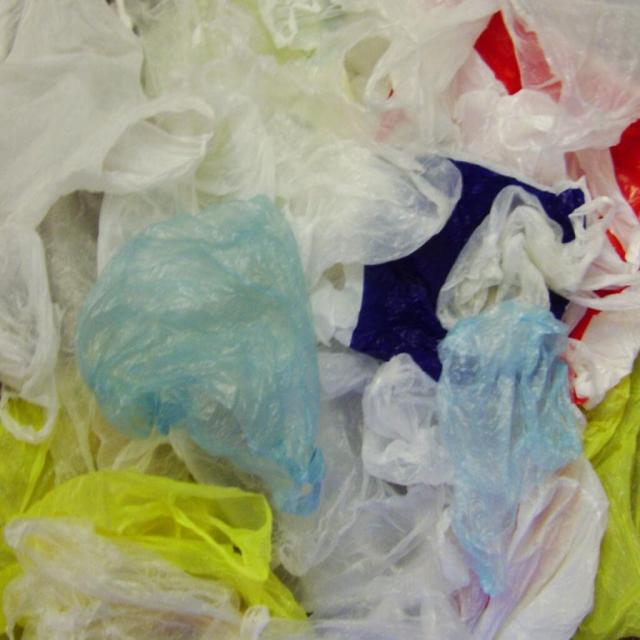plastic_bag: (1, 2, 640, 640), (70, 191, 330, 514), (352, 27, 607, 221), (435, 298, 591, 601)
